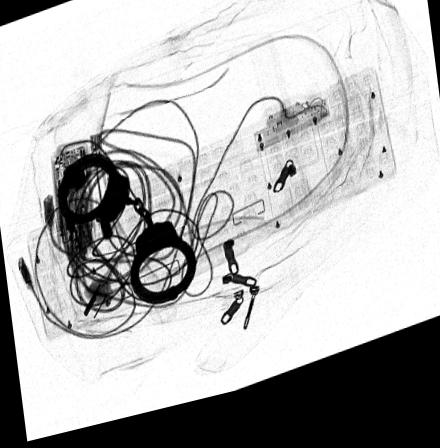HandCuffs: (57, 157, 196, 312)
